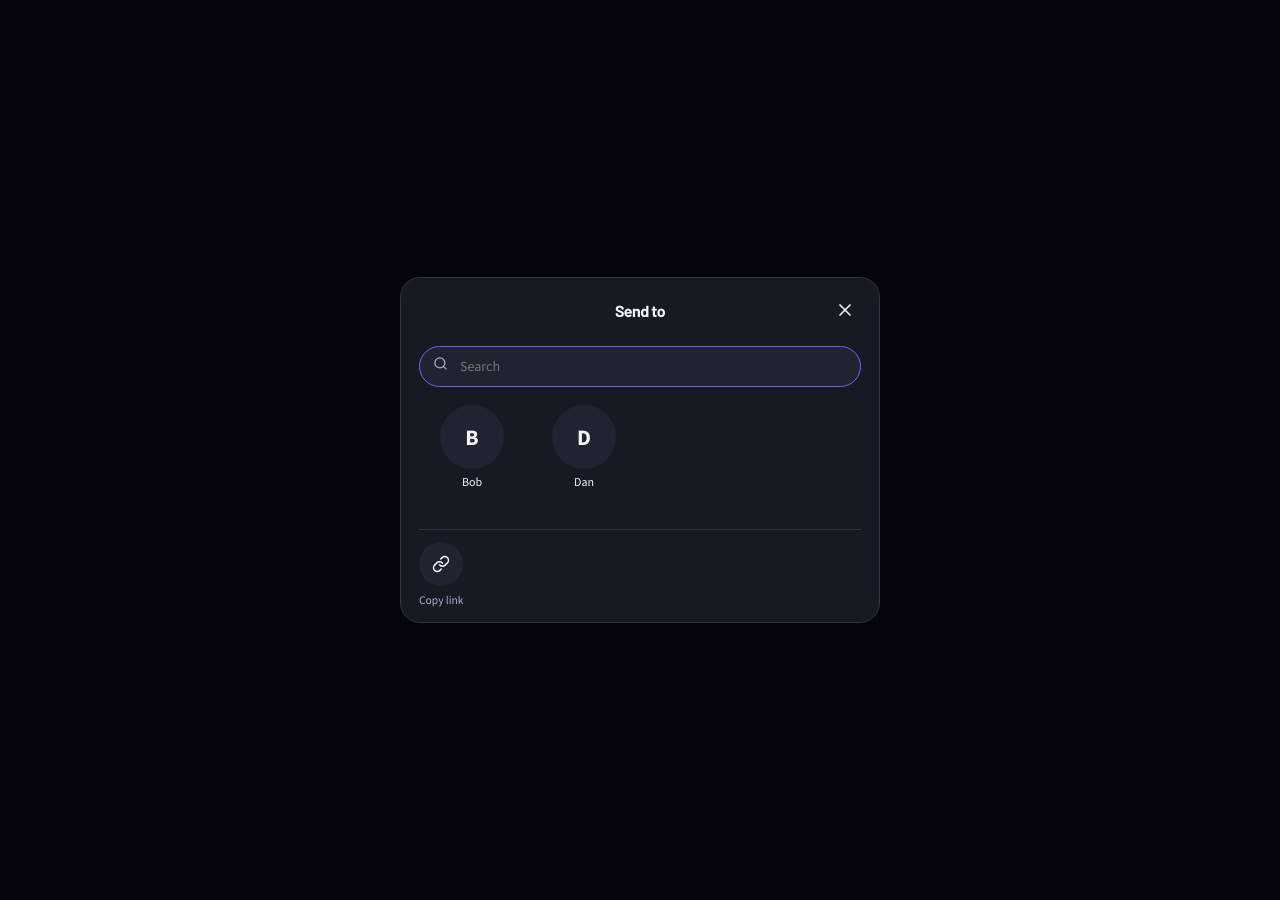
Test: SharePostDialog › counts how many it is sending to
Click the checkbox labelled "B Bob". click: (472, 448)
box: [419,405,525,490]
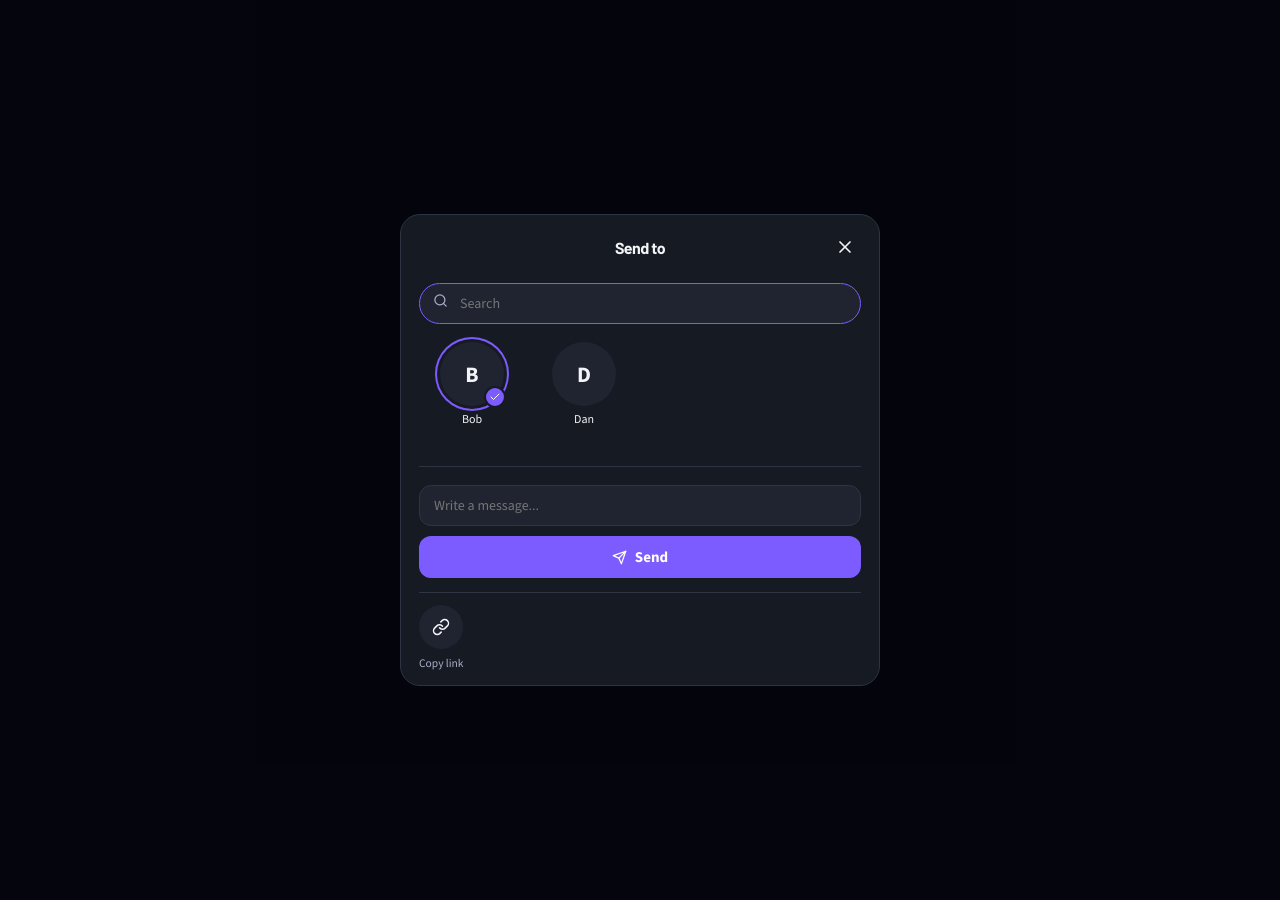
Click the checkbox labelled "D Dan". click: (584, 384)
box: [531,342,637,427]
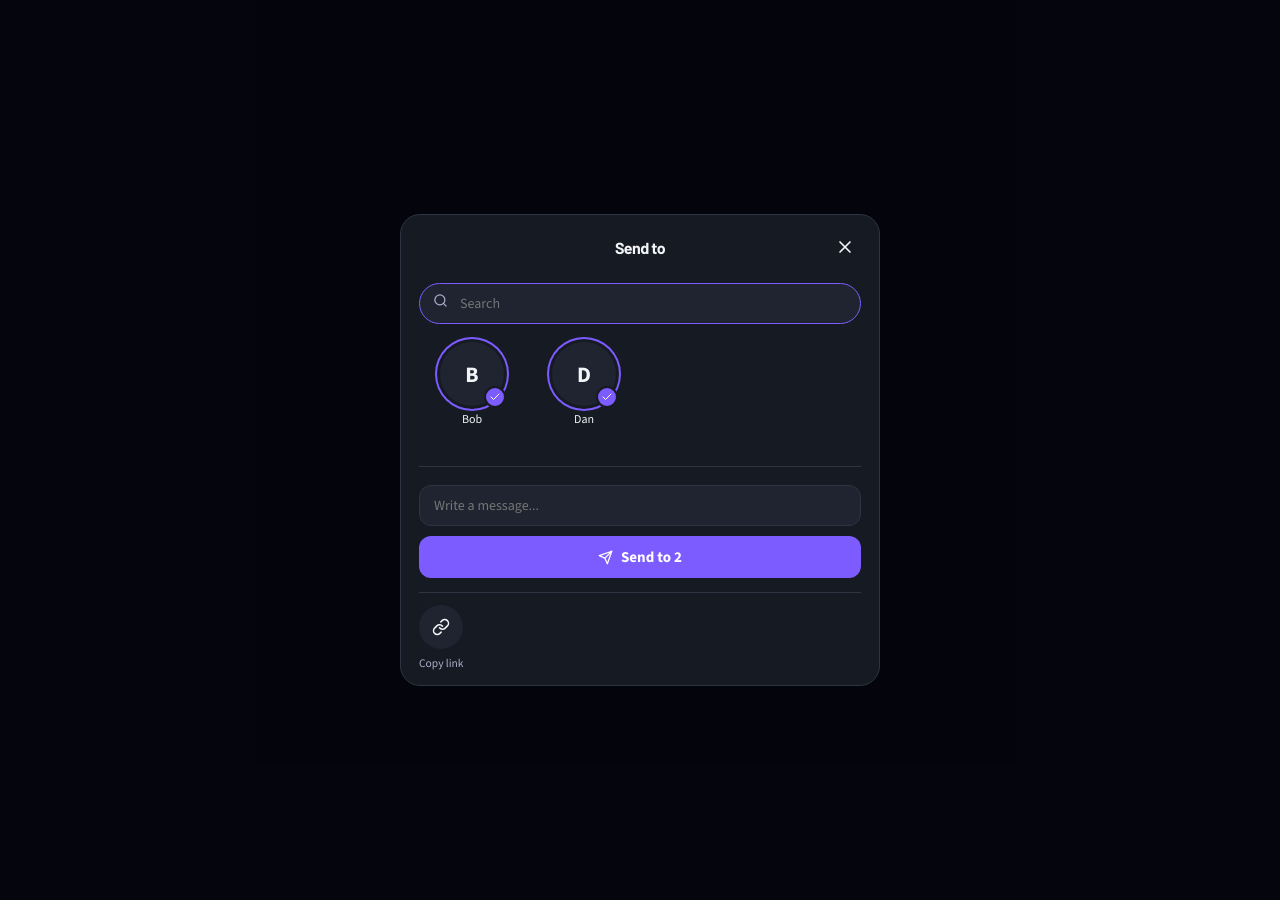
Check: the button "Send to 2" is shown, box [419,536,861,578]
